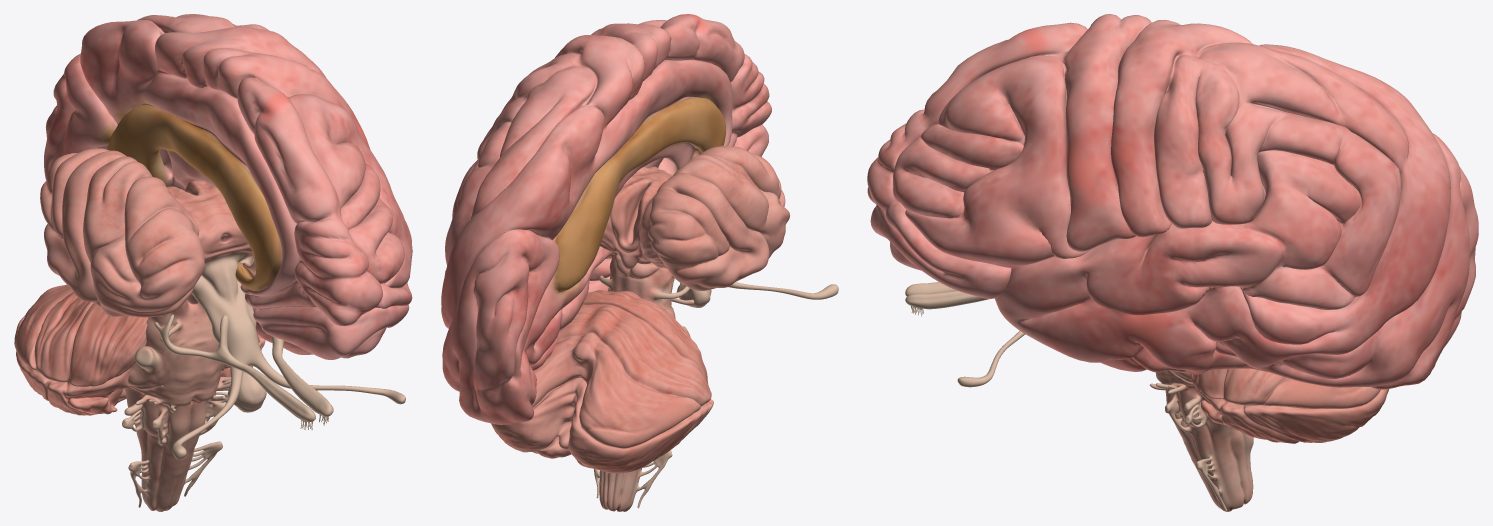
Rendered from adult_brain2.glb.
3 views of the same model, side by side, from view 1: azimuth 30°, elevation 25°; view 2: azimuth 150°, elevation 25°; view 3: azimuth 270°, elevation 25° (orthographic). The views are drawn at different scales.
Visible parts, largest first — view 1: Brain_left_hemisphere, Brain_stem, Cerebellum, Olfactory_nerve; view 2: Brain_left_hemisphere, Cerebellum, Brain_stem; view 3: Brain_left_hemisphere, Cerebellum, Brain_stem, Olfactory_nerve.
Part boxes in pixels (box(x1,y1,x2,y2)): Brain_left_hemisphere: box(44, 14, 412, 359); Brain_stem: box(40, 148, 405, 511); Cerebellum: box(14, 284, 265, 415); Olfactory_nerve: box(154, 314, 333, 429); Brain_left_hemisphere: box(441, 14, 771, 424); Cerebellum: box(491, 290, 713, 473); Brain_stem: box(594, 145, 838, 511); Brain_left_hemisphere: box(867, 14, 1478, 389); Cerebellum: box(1189, 368, 1389, 443); Brain_stem: box(957, 331, 1253, 511); Olfactory_nerve: box(905, 282, 989, 316).
Size of what is drawn, in the model's own units: 0.0408 by 0.0663 by 0.0734.
5 materials, 5 textured.
